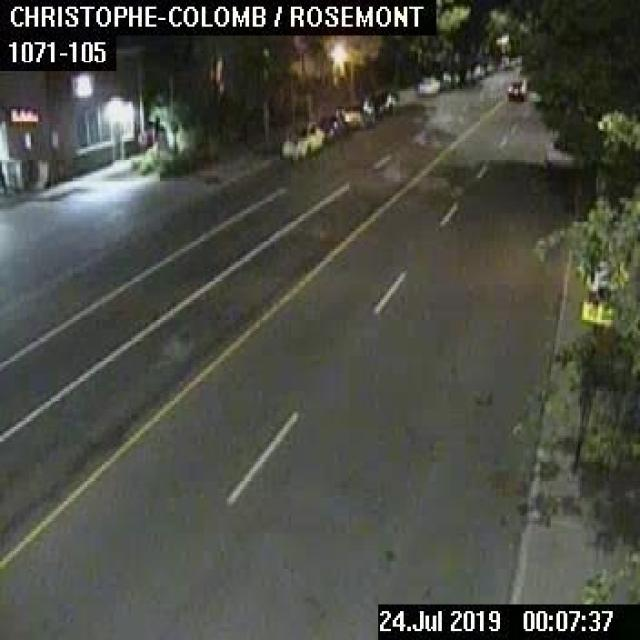vehicle: (278, 121, 322, 158), (546, 130, 576, 164), (318, 115, 342, 143), (336, 106, 364, 129), (372, 92, 393, 113), (360, 98, 374, 126), (418, 76, 437, 92), (507, 81, 524, 98), (437, 72, 449, 90)
